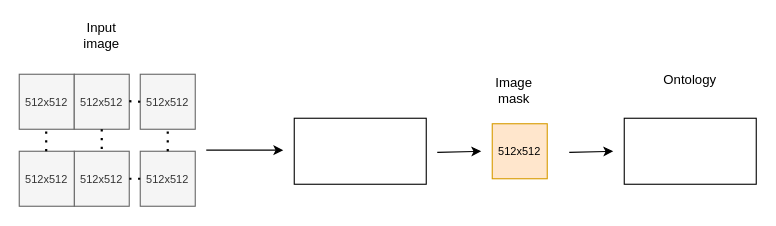
Image size: 776x226. Some labels were removed from this diagram. The centre of each missing label's shape, as x and y in pixels:
"owl" goes at (689,150).
"VGG16" goes at (359,150).
